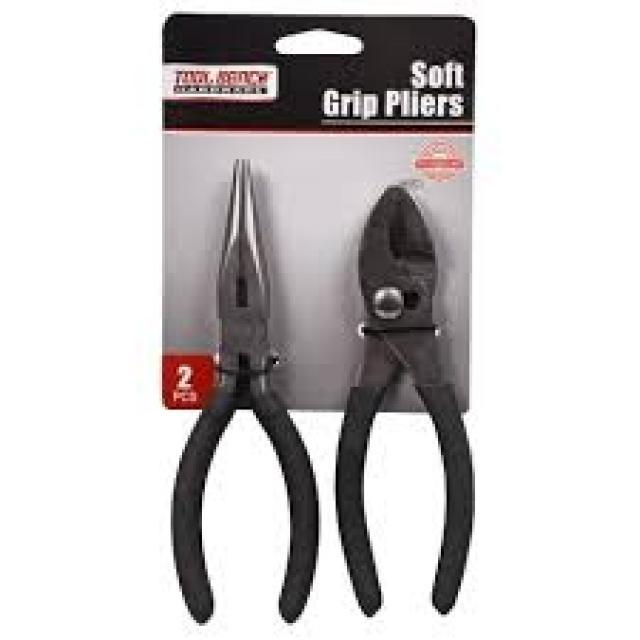pliers: (160, 149, 324, 629), (330, 177, 490, 624)
